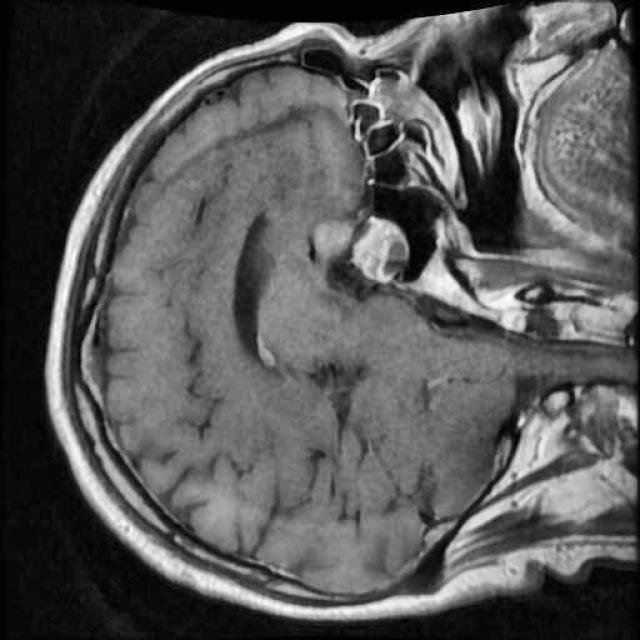Tumor: (294, 190, 424, 300)
